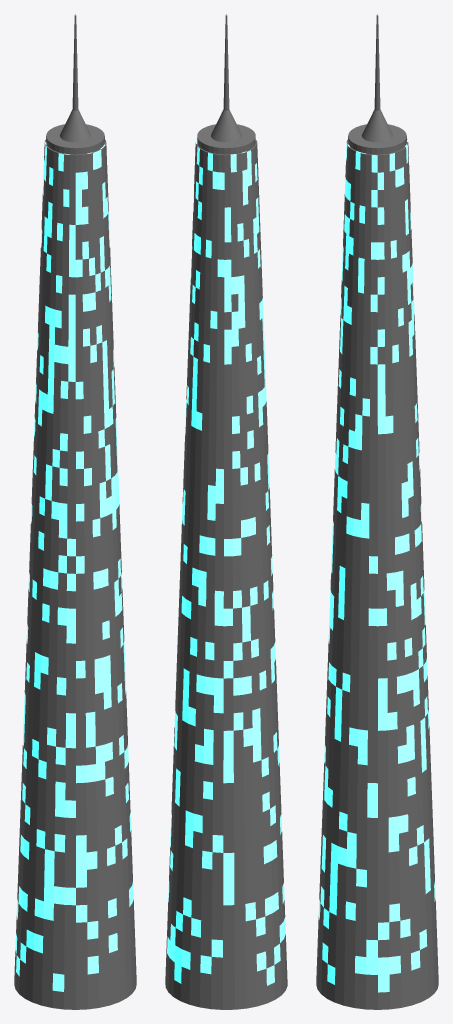
The model's file is habitation_2.fbx.
The picture shows the model from 3 angles, left to right: view 1: azimuth 90°, elevation 25°; view 2: azimuth 210°, elevation 25°; view 3: azimuth 270°, elevation 25°; orthographic projection.
Visible parts, largest first — view 1: Cylinder; view 2: Cylinder; view 3: Cylinder.
Boxes of the visible parts, x1,y1,x2,y2 form: Cylinder: (14,14,136,1009); Cylinder: (165,14,287,1009); Cylinder: (316,14,438,1009).
Bounding box in the file's own units: 200 × 1745 × 200.
